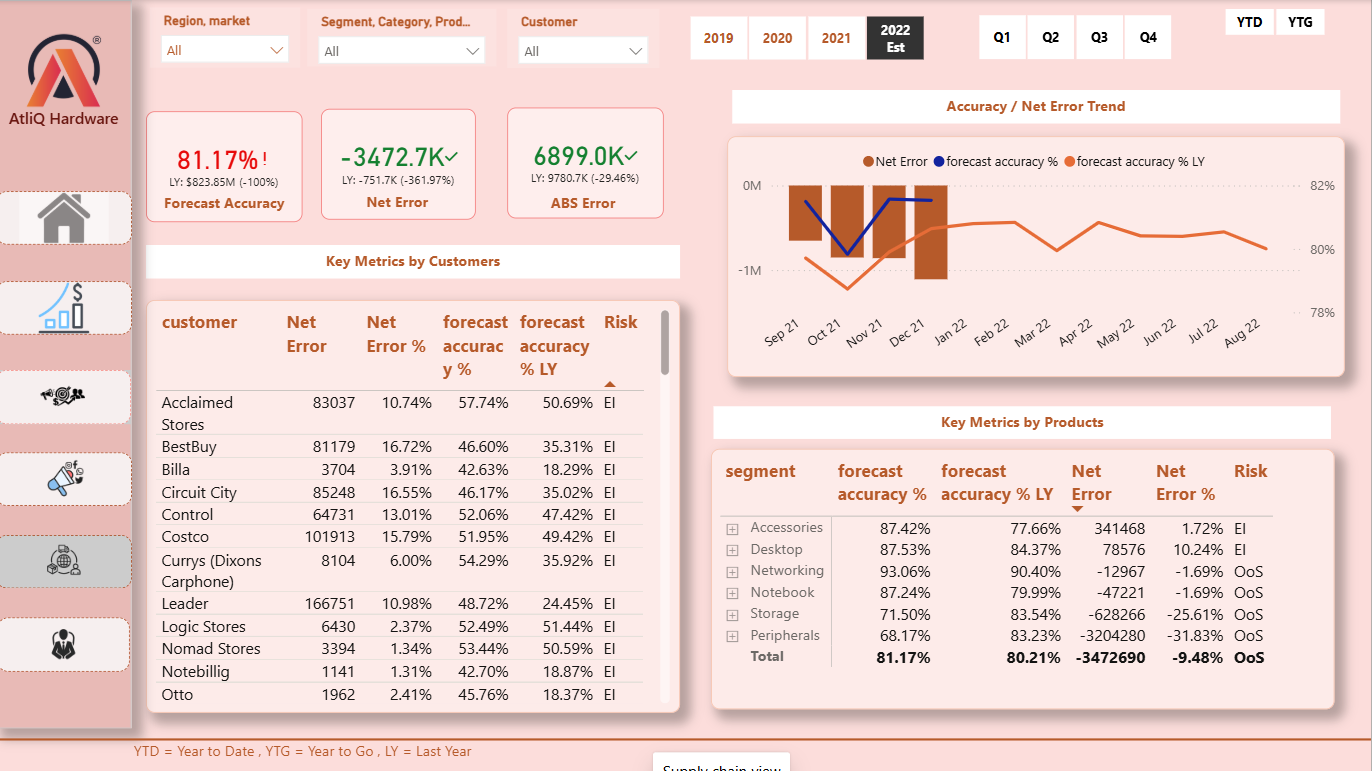

This screenshot's page, from the dashboard's own definition file:
{"tool":"powerbi","page":{"name":"Supply chain view ","canvas":[1280,720],"ordinal":4},"visuals":[{"type":"textbox","box":[140,227.8,496.7,31.6],"z":0},{"type":"kpi","fields":{"TrendLine":["dim_date.fiscal_year"],"Goal":["Key Measures.NS $ LY"],"Indicator":["Key Measures.forecast accuracy %"]},"box":[140,102.9,145.5,102.9],"z":1000},{"type":"textbox","box":[142.7,174.3,138.6,39.8],"z":2000},{"type":"kpi","fields":{"TrendLine":["dim_date.fiscal_year"],"Goal":["Key Measures.Net Error % LY"],"Indicator":["Key Measures.Net Error"]},"box":[301.9,101.5,144.1,102.9],"z":3000},{"type":"textbox","box":[322.5,172.9,109.8,30.2],"z":4000},{"type":"kpi","fields":{"TrendLine":["dim_date.fiscal_year"],"Goal":["Key Measures.ABS Error LY"],"Indicator":["Key Measures.ABS Error"]},"box":[475.1,99.7,145.2,103.4],"z":5000},{"type":"textbox","box":[492.6,174.3,109.8,30.2],"z":6000},{"type":"tableEx","fields":{"Values":["dim_customer.customer","Key Measures.Net Error","Key Measures.Net Error %","Key Measures.forecast accuracy","Key Measures.forecast accuracy % LY","Key Measures.Risk"]},"box":[140,278.6,496.7,384.2],"z":7000},{"type":"lineStackedColumnComboChart","fields":{"Category":["dim_date.month"],"Y2":["Key Measures.forecast accuracy %","Key Measures.forecast accuracy % LY"],"Y":["Key Measures.Net Error"]},"box":[680.3,126.6,574.6,224],"z":8000},{"type":"pivotTable","fields":{"Rows":["dim_product.segment","dim_product.category","dim_product.product"],"Values":["Key Measures.forecast accuracy","Key Measures.forecast accuracy % LY","Key Measures.Net Error","Key Measures.Net Error %","Key Measures.Risk"]},"box":[665,417.4,580.2,242.1],"z":9000},{"type":"textbox","box":[667.8,378.4,574.6,30.6],"z":10000},{"type":"textbox","box":[684.7,83.7,565.4,31.6],"z":11000},{"type":"textbox","box":[123.5,683.4,1129.3,34.3],"z":12000},{"type":"shape","box":[0,0,126.2,677.9],"z":13000},{"type":"image","box":[19.2,30.2,87.8,70],"z":14000},{"type":"textbox","box":[1.4,94.7,123.5,43.9],"z":15000},{"type":"image","box":[0,178.4,126.2,49.4],"z":16000},{"type":"image","box":[0,262.1,126.2,49.4],"z":17000},{"type":"image","box":[0,344.7,125.7,50],"z":18000},{"type":"image","box":[0,421.3,126.2,49.4],"z":19000},{"type":"image","box":[0,498.1,126.2,49.4],"z":20000},{"type":"image","box":[1.4,575,123.5,50],"z":21000},{"type":"slicer","fields":{"Values":["fiscal_year.fy_desc"]},"box":[620.2,8.2,267.6,52.1],"z":22000},{"type":"slicer","fields":{"Values":["dim_date.Quarter"]},"box":[887.8,6.9,229.2,54.9],"z":23000},{"type":"slicer","fields":{"Values":["dim_date.ytd_ytg"]},"box":[1117,1.4,142.7,34.3],"z":24000},{"type":"slicer","fields":{"Values":["dim_product.segment","dim_product.category","dim_product.product"]},"box":[289.5,8.2,175.6,53.5],"z":25000},{"type":"slicer","fields":{"Values":["dim_market.region","dim_market.market"]},"box":[142.7,6.9,140,56.3],"z":26000},{"type":"slicer","fields":{"Values":["dim_customer.customer"]},"box":[476.2,8.2,141.3,54.9],"z":27000},{"type":"shape","box":[1.1,678.7,1278.9,17.6],"z":28000}]}

Visuals, with their boxes in screenshot pixels (x1, y1, x2, y2), scaled from the page's 1280x720 canvas onto the 1372x771 screenshot:
textbox: [150, 244, 682, 278]
kpi - dim_date.fiscal_year x Key Measures.NS $ LY: [150, 110, 306, 220]
textbox: [153, 187, 302, 229]
kpi - dim_date.fiscal_year x Key Measures.Net Error % LY: [324, 109, 478, 219]
textbox: [346, 185, 463, 217]
kpi - dim_date.fiscal_year x Key Measures.ABS Error LY: [509, 107, 665, 217]
textbox: [528, 187, 646, 219]
tableEx - dim_customer.customer x Key Measures.Net Error: [150, 298, 682, 710]
lineStackedColumnComboChart - dim_date.month x Key Measures.forecast accuracy %: [729, 136, 1345, 375]
pivotTable - dim_product.segment x dim_product.category: [713, 447, 1335, 706]
textbox: [716, 405, 1332, 438]
textbox: [734, 90, 1340, 123]
textbox: [132, 732, 1343, 769]
shape: [0, 0, 135, 726]
image: [21, 32, 115, 107]
textbox: [2, 101, 134, 148]
image: [0, 191, 135, 244]
image: [0, 281, 135, 334]
image: [0, 369, 135, 423]
image: [0, 451, 135, 504]
image: [0, 533, 135, 586]
image: [2, 616, 134, 669]
slicer - fiscal_year.fy_desc: [665, 9, 952, 65]
slicer - dim_date.Quarter: [952, 7, 1197, 66]
slicer - dim_date.ytd_ytg: [1197, 1, 1350, 38]
slicer - dim_product.segment x dim_product.category: [310, 9, 499, 66]
slicer - dim_market.region x dim_market.market: [153, 7, 303, 68]
slicer - dim_customer.customer: [510, 9, 662, 68]
shape: [1, 727, 1371, 746]
